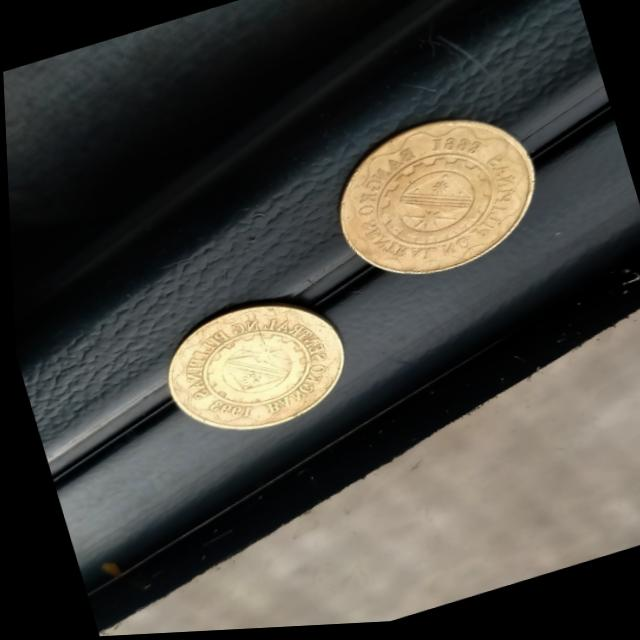5_Old_Back: (301, 84, 560, 312), (148, 271, 355, 456)
